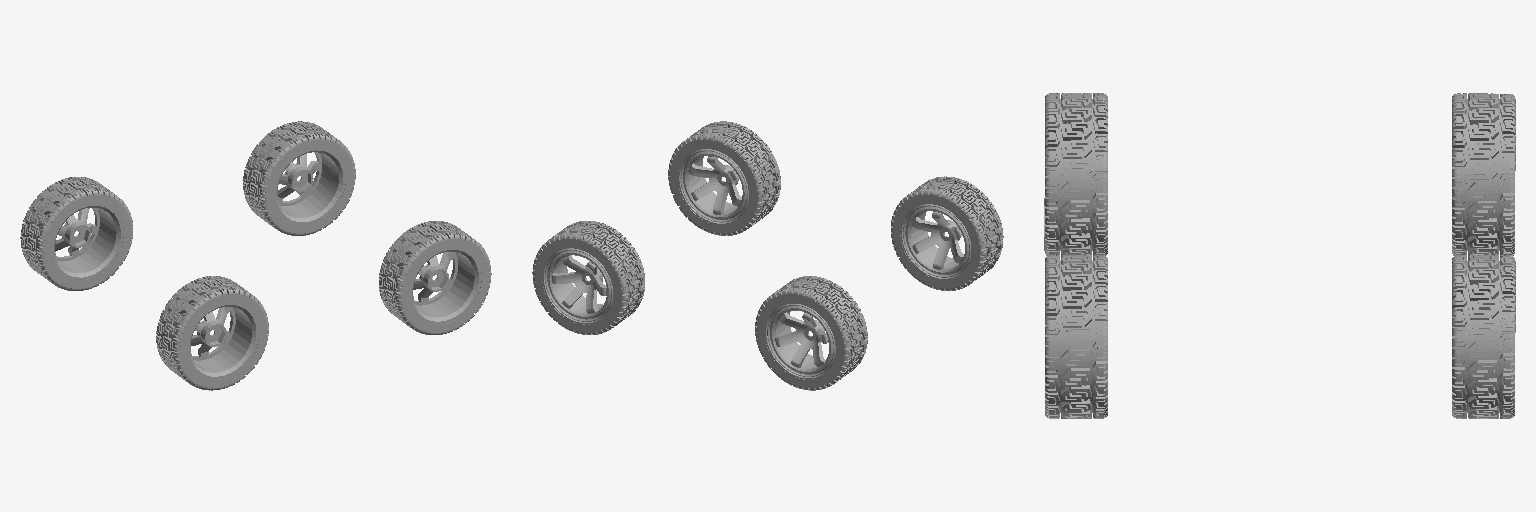
URDF robot description (yahboomcar):
<?xml version="1.0" encoding="utf-8"?>
<!-- This URDF was automatically created by SolidWorks to URDF Exporter! Originally created by [author] ([email redacted]) 
     Commit Version: 1.6.0-1-g15f4949  Build Version: 1.6.7594.29634  81.5+32.5
     For more information, please see http://wiki.ros.org/sw_urdf_exporter -->
<robot name="yahboomcar">
    <link name="base_footprint"/>
    <link name="imu_link"/>
    <link name="base_link">
        <inertial>
            <origin xyz="0.00498197982182523 5.70233829969297E-05 -0.0121008098068578" rpy="0 0 0"/>
            <mass value="0.486218814966626"/>
            <inertia
                    ixx="0.00196277727666921"
                    ixy="2.50447049446755E-07"
                    ixz="0.000140534767811098"
                    iyy="0.00457256033711368"
                    iyz="2.68618064993882E-07"
                    izz="0.00493927269870476"/>
        </inertial>
        <visual>
            <origin xyz="0 0 0" rpy="0 0 0"/>
            <geometry>
                <mesh filename="package://yahboomcar_description_x1/meshes/mecanum/base_link.STL"/>
            </geometry>
            <material name="">
                <color rgba="0 0.7 0 1"/>
            </material>
        </visual>
        <collision>
            <origin xyz="0 0 0" rpy="0 0 0"/>
            <geometry>
                <mesh filename="package://yahboomcar_description_x1/meshes/mecanum/base_link.STL"/>
            </geometry>
        </collision>
    </link>
    <joint name="base_joint" type="fixed">
        <parent link="base_footprint"/>
        <child link="base_link"/>
        <origin xyz="0.0 0.0 0.0815" rpy="0 0 0"/>
    </joint>
    <joint name="base_imu" type="fixed">
        <parent link="base_link"/>
        <child link="imu_link"/>
        <origin xyz="-0.06 0.01 0.01" rpy="0 3.1415 1.5707"/>
    </joint>
    <link name="front_right_wheel">
        <inertial>
            <origin xyz="1.9051E-06 -2.3183E-07 -0.00064079" rpy="0 0 0"/>
            <mass value="0.051532"/>
            <inertia ixx="1.4595E-05" ixy="-4.3975E-10" ixz="4.415E-10"
                     iyy="1.4594E-05" iyz="-1.7476E-09" izz="2.4264E-05"/>
        </inertial>
        <visual>
            <origin xyz="0 0 0" rpy="0 0 0"/>
            <geometry>
                <mesh filename="package://yahboomcar_description_x1/meshes/mecanum/front_right_wheel.STL"/>
            </geometry>
            <material name="">
                <color rgba="0.7 0.7 0.7 1"/>
            </material>
        </visual>
        <collision>
            <origin xyz="0 0 0" rpy="0 0 0"/>
            <geometry>
                <mesh filename="package://yahboomcar_description_x1/meshes/mecanum/front_right_wheel.STL"/>
            </geometry>
        </collision>
    </link>
    <joint name="front_right_joint" type="continuous">
        <origin xyz="0.08 -0.0845 -0.0389" rpy="-1.5703 0 3.14159"/>
        <parent link="base_link"/>
        <child link="front_right_wheel"/>
        <axis xyz="0 0 1" rpy="0 0 0"/>
        <limit effort="100" velocity="1"/>
    </joint>
    <link name="front_left_wheel">
        <inertial>
            <origin xyz="2.3728E-06 -9.4228E-07 0.00064068" rpy="0 0 0"/>
            <mass value="0.051543"/>
            <inertia ixx="1.4597E-05" ixy="-4.7945E-10" ixz="-2.4786E-10"
                     iyy="1.4598E-05" iyz="1.7972E-09" izz="2.4267E-05"/>
        </inertial>
        <visual>
            <origin xyz="0 0 0" rpy="0 0 0"/>
            <geometry>
                <mesh filename="package://yahboomcar_description_x1/meshes/mecanum/front_left_wheel.STL"/>
            </geometry>
            <material name="">
                <color rgba="0.7 0.7 0.7 1"/>
            </material>
        </visual>
        <collision>
            <origin xyz="0 0 0" rpy="0 0 0"/>
            <geometry>
                <mesh filename="package://yahboomcar_description_x1/meshes/mecanum/front_left_wheel.STL"/>
            </geometry>
        </collision>
    </link>
    <joint name="front_left_joint" type="continuous">
        <origin xyz="0.08 0.084492 -0.0389" rpy="1.5703 0 0"/>
        <parent link="base_link"/>
        <child link="front_left_wheel"/>
        <axis xyz="0 0 1" rpy="0 0 0"/>
        <limit effort="100" velocity="1"/>
    </joint>
    <link name="back_right_wheel">
        <inertial>
            <origin xyz="-1.75924169923403E-06 1.28388821071107E-06 -0.000590549296238266" rpy="0 0 0"/>
            <mass value="0.051540174053366"/>
            <inertia ixx="1.45974152250002E-05" ixy="1.94850559178397E-10" ixz="-1.61846387282284E-09"
                     iyy="1.4596501955693E-05" iyz="-6.27904057423818E-10" izz="2.42663091380451E-05"/>
        </inertial>
        <visual>
            <origin xyz="0 0 0" rpy="0 0 0"/>
            <geometry>
                <mesh filename="package://yahboomcar_description_x1/meshes/mecanum/back_right_wheel.STL"/>
            </geometry>
            <material name="">
                <color rgba="0.7 0.7 0.7 1"/>
            </material>
        </visual>
        <collision>
            <origin xyz="0 0 0" rpy="0 0 0"/>
            <geometry>
                <mesh filename="package://yahboomcar_description_x1/meshes/mecanum/back_right_wheel.STL"/>
            </geometry>
        </collision>
    </link>
    <joint name="back_right_joint" type="continuous">
        <origin xyz="-0.08 -0.0845 -0.03946" rpy="-1.57 0 3.14159"/>
        <parent link="base_link"/>
        <child link="back_right_wheel"/>
        <axis xyz="0 0 1" rpy="0 0 0"/>
        <limit effort="100" velocity="1"/>
    </joint>
    <link name="back_left_wheel">
        <inertial>
            <origin xyz="-4.01213085227115E-07 2.04910264598596E-06 0.000590775697051377" rpy="0 0 0"/>
            <mass value="0.0515309299357028"/>
            <inertia ixx="1.45942986129926E-05" ixy="-3.19787215398093E-10" ixz="1.74943062058915E-09"
                     iyy="1.45948727598913E-05" iyz="1.61769812110049E-10" izz="2.4263683888153E-05"/>
        </inertial>
        <visual>
            <origin xyz="0 0 0" rpy="0 0 0"/>
            <geometry>
                <mesh filename="package://yahboomcar_description_x1/meshes/mecanum/back_left_wheel.STL"/>
            </geometry>
            <material name="">
                <color rgba="0.7 0.7 0.7 1"/>
            </material>
        </visual>
        <collision>
            <origin xyz="0 0 0" rpy="0 0 0"/>
            <geometry>
                <mesh filename="package://yahboomcar_description_x1/meshes/mecanum/back_left_wheel.STL"/>
            </geometry>
        </collision>
    </link>
    <joint name="back_left_joint" type="continuous">
        <origin xyz="-0.08 0.084492 -0.03954" rpy="1.5703 0 0"/>
        <parent link="base_link"/>
        <child link="back_left_wheel"/>
        <axis xyz="0 0 1" rpy="0 0 0"/>
        <limit effort="100" velocity="1"/>
    </joint>
    <link name="laser_link">
        <inertial>
            <origin xyz="-0.0176558922685589 0.000671805271544437 0.0219302095894866" rpy="0 0 0" />
            <mass value="0.0483909504209895" />
            <inertia ixx="1.58456966399128E-05" ixy="-4.23913983850005E-07" ixz="-2.09597897904374E-07"
                     iyy="3.89262522903605E-05" iyz="3.24809725932687E-07" izz="4.86230801106223E-05" />
        </inertial>
        <visual>
            <origin xyz="0 0 0" rpy="0 0 0"/>
            <geometry>
                <mesh filename="package://yahboomcar_description_x1/meshes/sensor/laser_link.STL"/>
            </geometry>
            <material name="">
                <color rgba="0.7 0.7 0.7 1"/>
            </material>
        </visual>
        <collision>
            <origin xyz="0 0 0" rpy="0 0 0"/>
            <geometry>
                <mesh filename="package://yahboomcar_description_x1/meshes/sensor/laser_link.STL"/>
            </geometry>
        </collision>
    </link>
    <joint name="laser_joint" type="fixed">
        <origin xyz="0.0435 5.25826986680105E-05 0.11" rpy="0 0 0"/>
        <parent link="base_link"/>
        <child link="laser_link"/>
    </joint>
    <link name="camera_link">
        <inertial>
            <origin xyz="0 0 0" rpy="0 0 0"/>
            <mass value="0"/>
            <inertia ixx="0" ixy="0" ixz="0" iyy="0" iyz="0" izz="0"/>
        </inertial>
        <visual>
            <origin xyz="0 0 0" rpy="0 0 0"/>
            <geometry>
                <mesh filename="package://yahboomcar_description_x1/meshes/sensor/camera_link.STL"/>
            </geometry>
            <material name="">
                <color rgba="0.7 0.7 0.7 1"/>
            </material>
        </visual>
        <collision>
            <origin xyz="0 0 0" rpy="0 0 0"/>
            <geometry>
                <mesh filename="package://yahboomcar_description_x1/meshes/sensor/camera_link.STL"/>
            </geometry>
        </collision>
    </link>
    <joint name="camera_joint" type="fixed">
        <origin xyz="0.057105 1.7948E-05 0.03755" rpy="0 0 0"/>
        <parent link="base_link"/>
        <child link="camera_link"/>
    </joint>
</robot>

--- Render facts (derived) ---
3 views of the same robot in one strip: view 1: azimuth 30°, elevation 25°; view 2: azimuth 150°, elevation 25°; view 3: azimuth 270°, elevation 25° (orthographic).
Robot: yahboomcar — 9 links, 8 joints (4 continuous, 4 fixed); root link base_footprint; default pose: every joint at zero.
Visible links, largest first — view 1: front_right_wheel, front_left_wheel, back_right_wheel, back_left_wheel; view 2: front_right_wheel, front_left_wheel, back_right_wheel, back_left_wheel; view 3: front_left_wheel, front_right_wheel, back_right_wheel, back_left_wheel.
Boxes of the visible links, x1=… form: front_right_wheel: x1=379, y1=221, x2=491, y2=334; front_left_wheel: x1=243, y1=121, x2=355, y2=235; back_right_wheel: x1=156, y1=276, x2=268, y2=390; back_left_wheel: x1=20, y1=177, x2=132, y2=290; front_right_wheel: x1=668, y1=121, x2=780, y2=235; front_left_wheel: x1=532, y1=221, x2=644, y2=334; back_right_wheel: x1=891, y1=176, x2=1003, y2=290; back_left_wheel: x1=755, y1=276, x2=867, y2=390; front_left_wheel: x1=1452, y1=255, x2=1515, y2=418; front_right_wheel: x1=1045, y1=255, x2=1107, y2=418; back_right_wheel: x1=1044, y1=93, x2=1107, y2=255; back_left_wheel: x1=1452, y1=93, x2=1515, y2=255.
Size in the robot's own frame: 0.228 by 0.1955 by 0.0686 metres.
Meshes: 7 distinct files referenced, 4 mesh visuals loaded (4 binary STL); not drawn: 3 (reference not matched to a file when rendering).